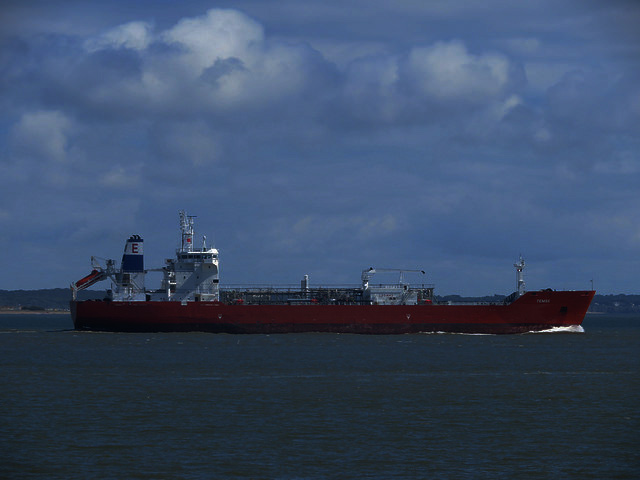tanker: (69, 213, 599, 333)
